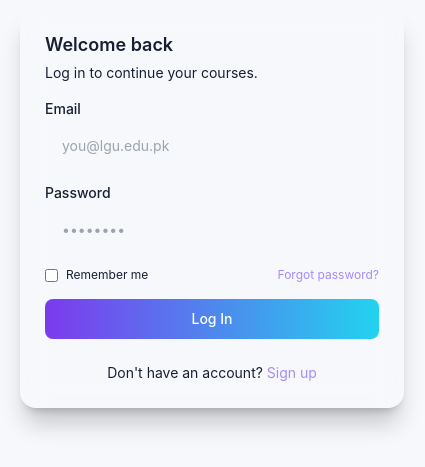
Test: LoginPage › shows validation when credentials are missing
Click the button "Log In".
click(212, 319)  # box [45,299,379,339]
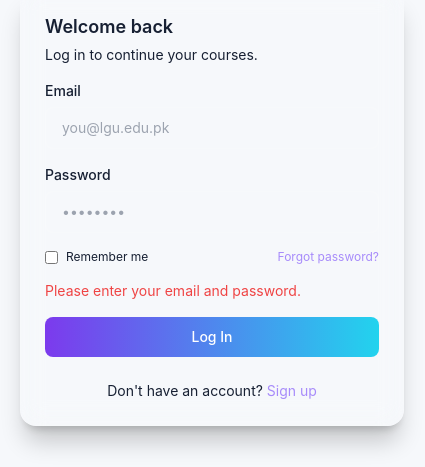
Now the text "Please enter your email and password." is shown, box [45,282,301,299]
